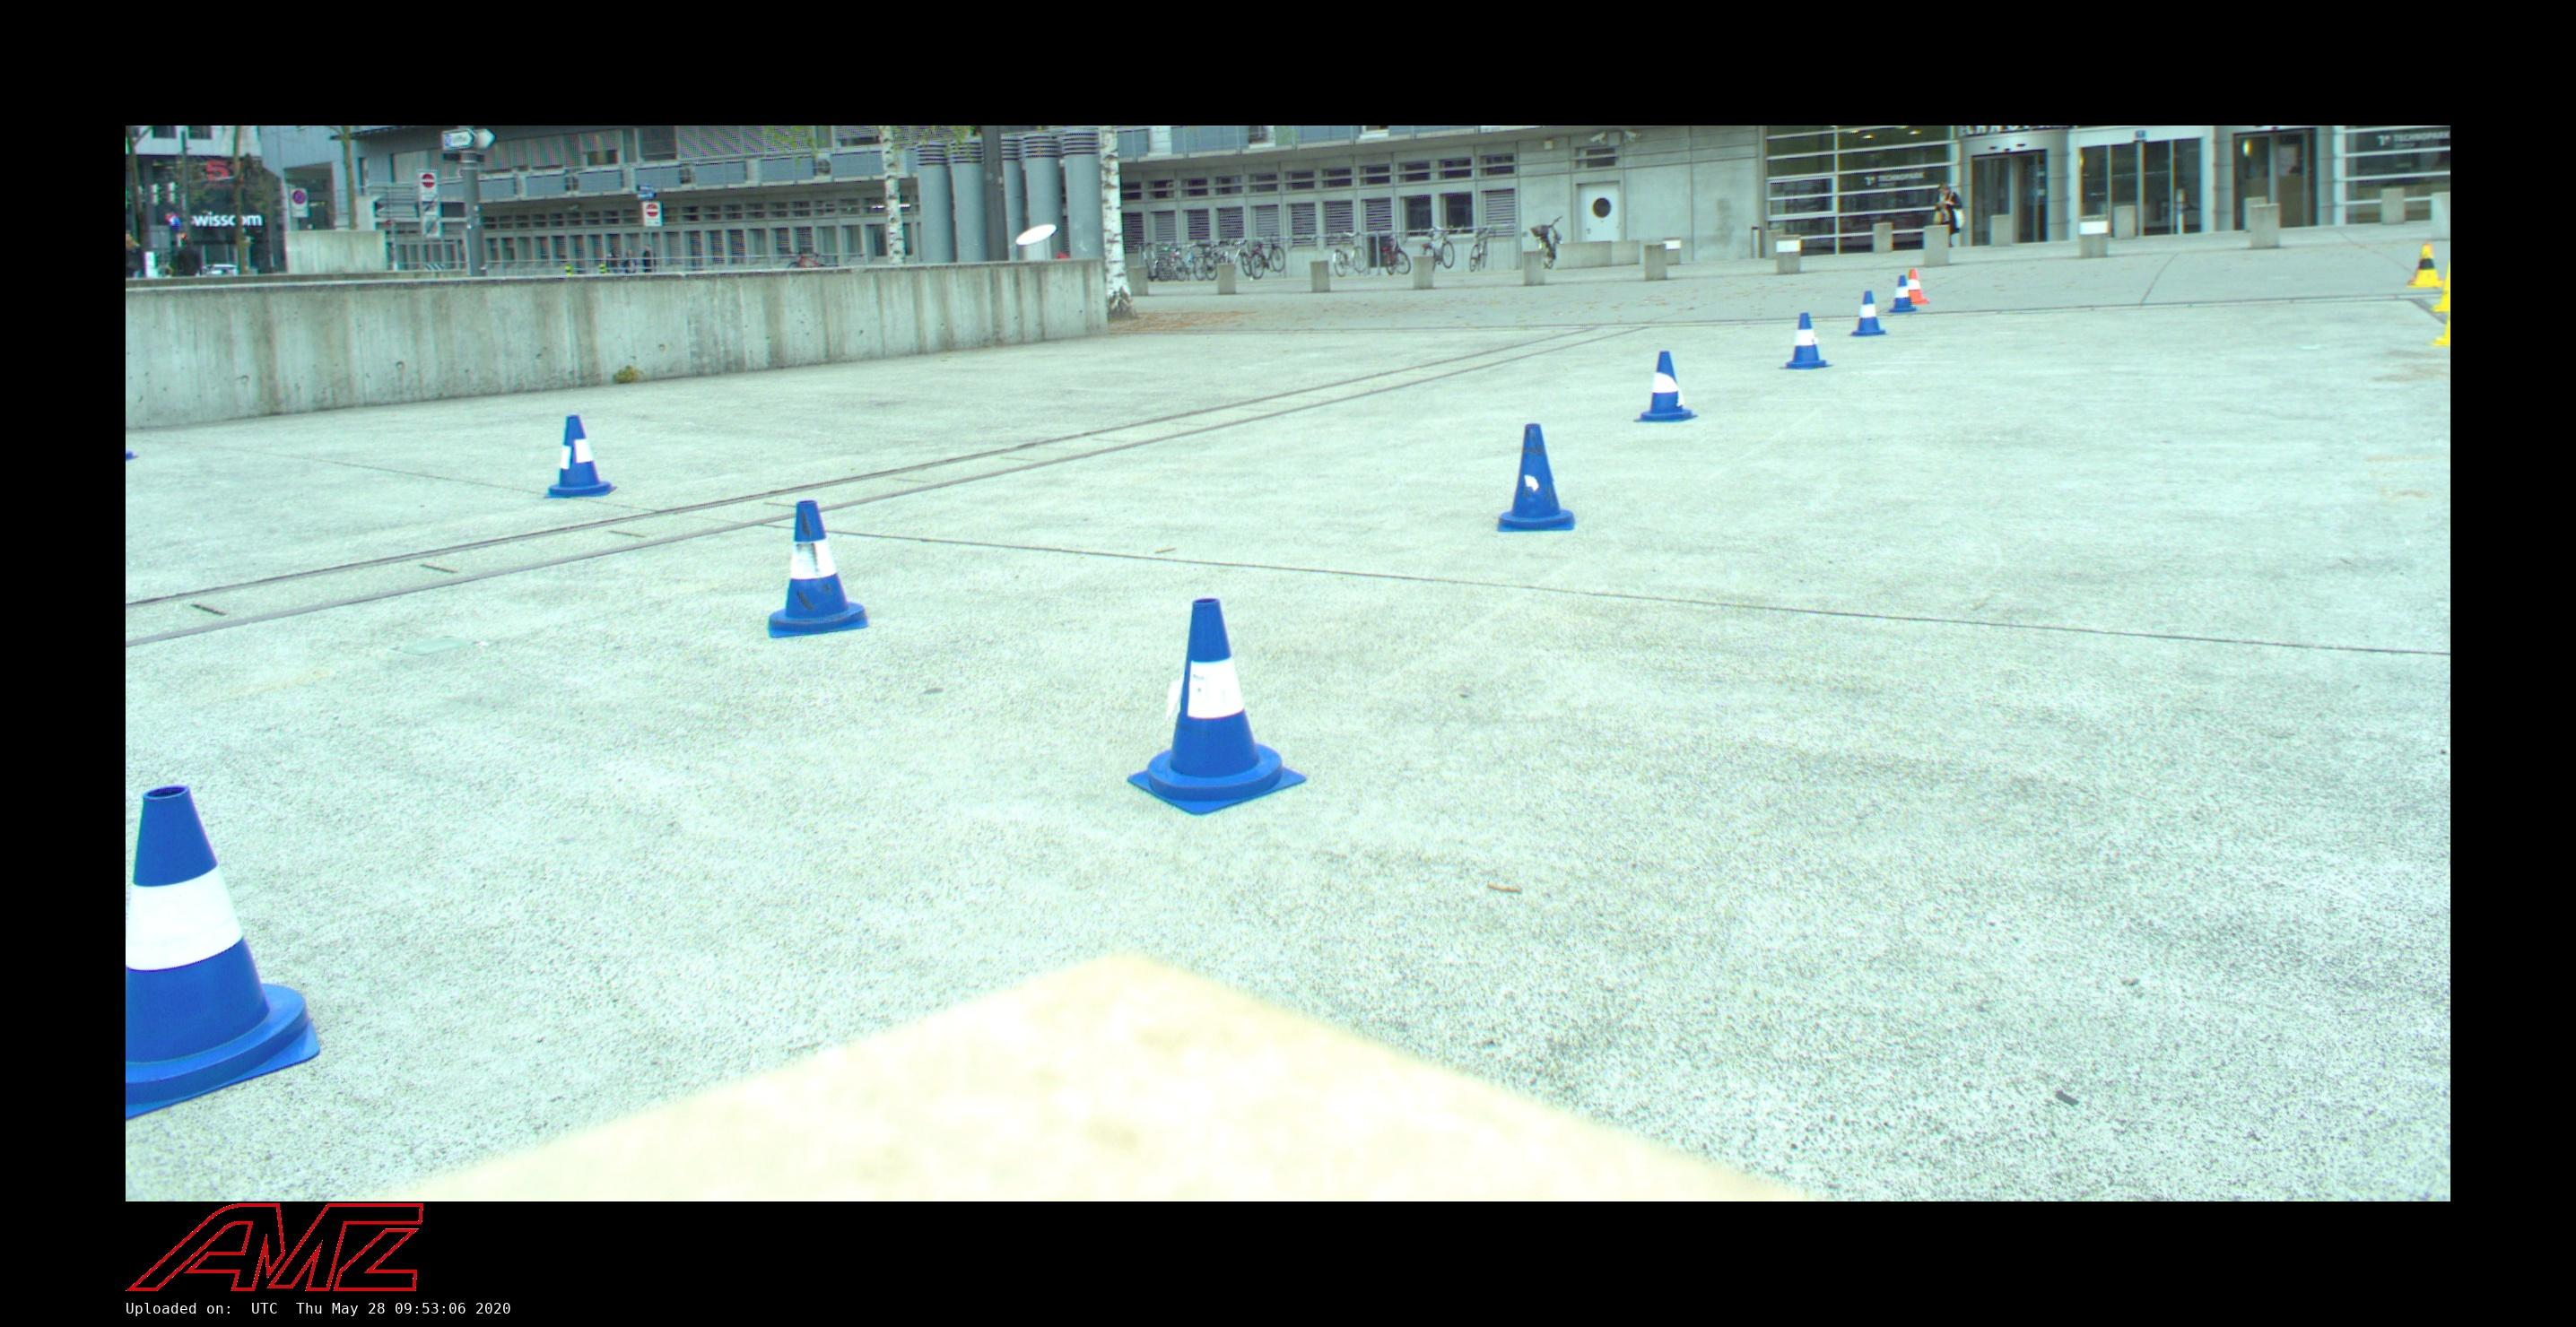blue_cone: (125, 785, 320, 1124), (1127, 601, 1308, 818), (768, 501, 870, 640), (1498, 425, 1576, 531), (540, 415, 618, 498), (1633, 352, 1699, 423), (1779, 313, 1833, 369), (1848, 291, 1889, 337), (1889, 276, 1918, 311)
orange_cone: (1907, 269, 1929, 305)
yellow_cone: (2405, 245, 2444, 288)
